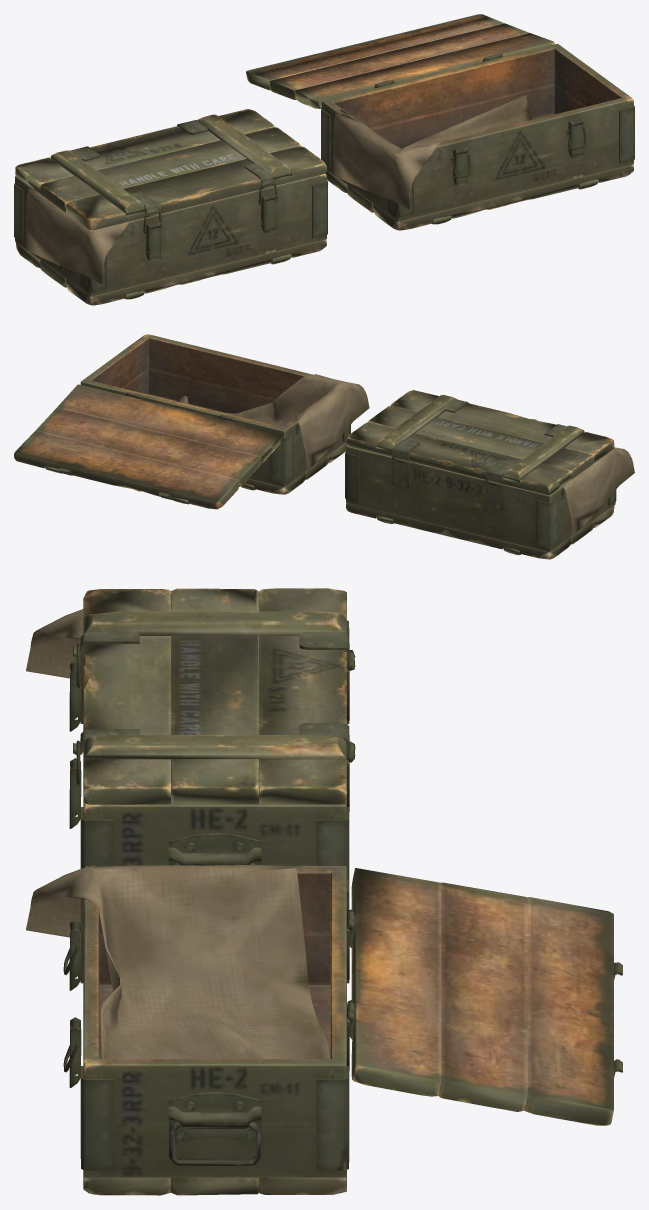
Rendered from old_military_crate.glb.
3 renders of one model, top to bottom at view 1: azimuth 30°, elevation 25°; view 2: azimuth 150°, elevation 25°; view 3: azimuth 270°, elevation 25°, orthographic. The views are drawn at different scales.
Visible parts, largest first — view 1: old_military_crate_b, old_military_crate_lid_a, old_military_crate_a, old_military_crate_lid_b, old_military_crate_cloth_b, old_military_crate_cloth_a, old_military_crate_latch_a, old_military_crate_latch_b; view 2: old_military_crate_lid_b, old_military_crate_lid_a, old_military_crate_a, old_military_crate_b, old_military_crate_cloth_b, old_military_crate_cloth_a; view 3: old_military_crate_lid_a, old_military_crate_lid_b, old_military_crate_b, old_military_crate_cloth_b, old_military_crate_a, old_military_crate_cloth_a, old_military_crate_latch_a, old_military_crate_latch_b.
Part boxes in pixels (x1=…): old_military_crate_b: x1=321, y1=43, x2=634, y2=230; old_military_crate_lid_a: x1=15, y1=109, x2=326, y2=230; old_military_crate_a: x1=14, y1=173, x2=327, y2=305; old_military_crate_lid_b: x1=246, y1=14, x2=554, y2=108; old_military_crate_cloth_b: x1=333, y1=95, x2=531, y2=209; old_military_crate_cloth_a: x1=25, y1=187, x2=129, y2=284; old_military_crate_latch_a: x1=145, y1=194, x2=276, y2=261; old_military_crate_latch_b: x1=453, y1=119, x2=583, y2=186; old_military_crate_lid_b: x1=14, y1=384, x2=282, y2=509; old_military_crate_lid_a: x1=346, y1=390, x2=614, y2=495; old_military_crate_a: x1=345, y1=446, x2=616, y2=559; old_military_crate_b: x1=80, y1=334, x2=350, y2=494; old_military_crate_cloth_b: x1=176, y1=374, x2=369, y2=470; old_military_crate_cloth_a: x1=563, y1=447, x2=634, y2=535; old_military_crate_lid_a: x1=73, y1=588, x2=355, y2=805; old_military_crate_lid_b: x1=347, y1=868, x2=622, y2=1125; old_military_crate_b: x1=80, y1=866, x2=354, y2=1195; old_military_crate_cloth_b: x1=26, y1=865, x2=329, y2=1058; old_military_crate_a: x1=80, y1=620, x2=355, y2=886; old_military_crate_cloth_a: x1=26, y1=609, x2=83, y2=678; old_military_crate_latch_a: x1=69, y1=661, x2=81, y2=828; old_military_crate_latch_b: x1=69, y1=920, x2=81, y2=1087.
Size of the model in its own units: 1.81 by 0.3009 by 0.9744.
Materials: 1 (1 with a texture image).
